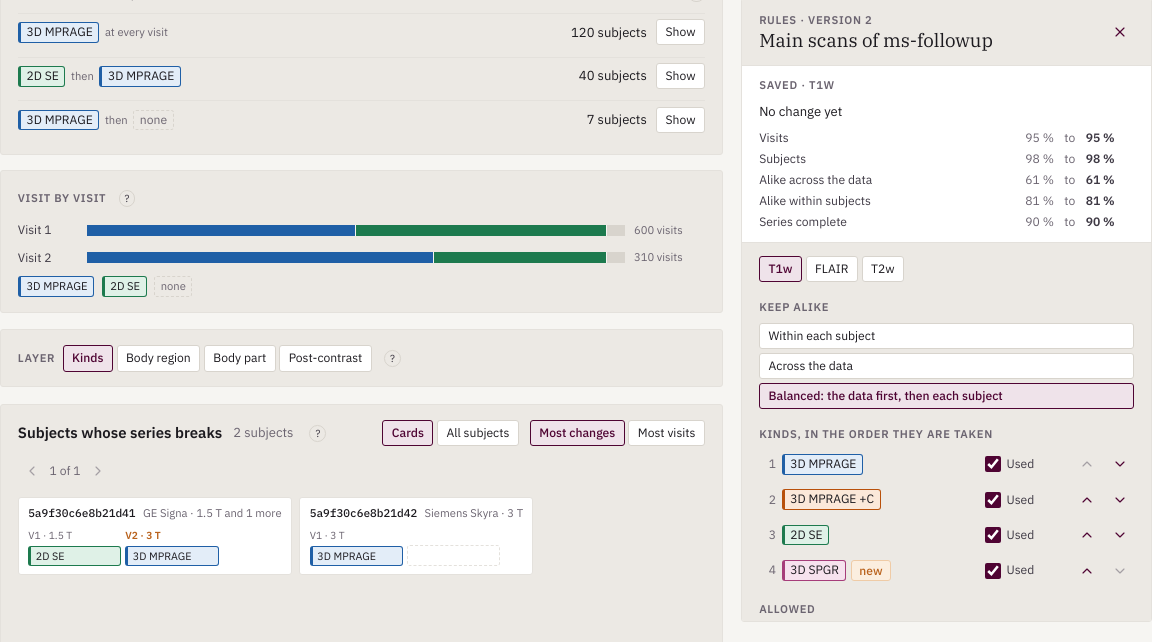
Test: Main scans' layers › says why a Run was not started
The width and height of the screenshot is (1152, 642).
(page scrolled)
Click the button "Body part": x=240, y=358 [204, 345, 276, 372]
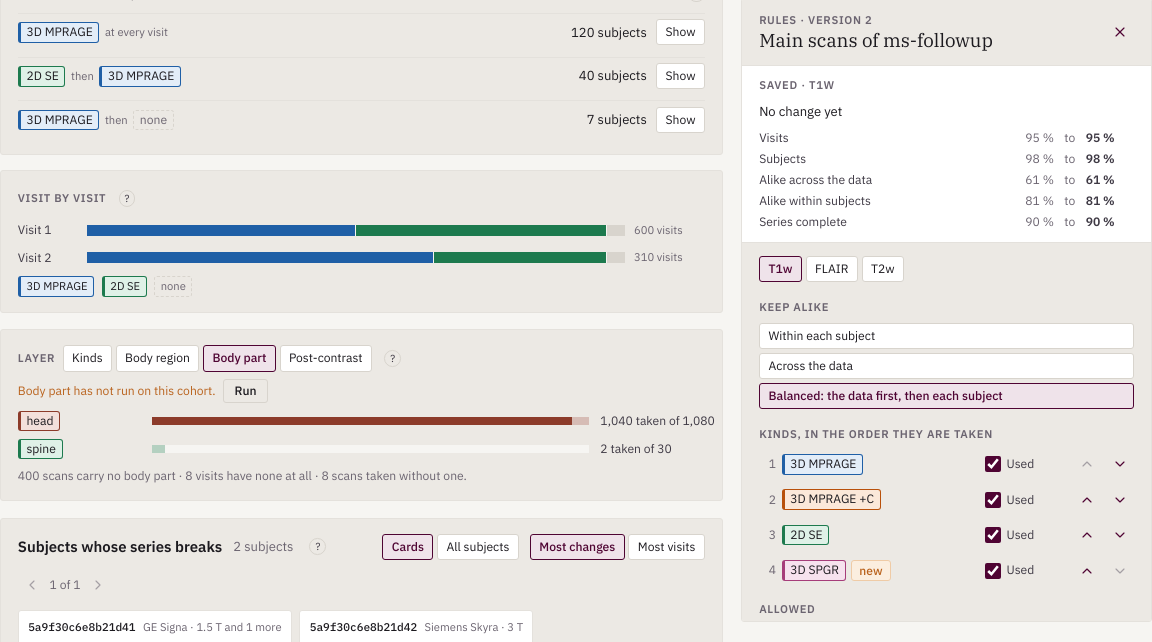
Click the button "Run": x=246, y=391 [223, 379, 268, 403]
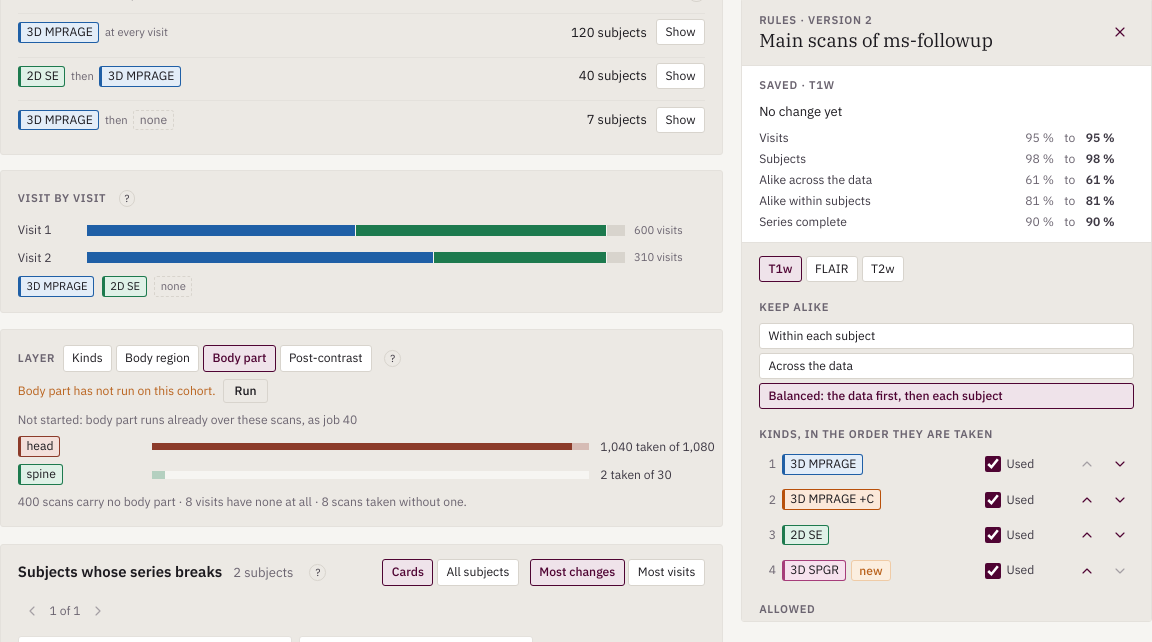
Expected: the message with class "ms-said" reads "Not started: body part runs already over these scans, as job 40", [18, 412, 357, 427]
